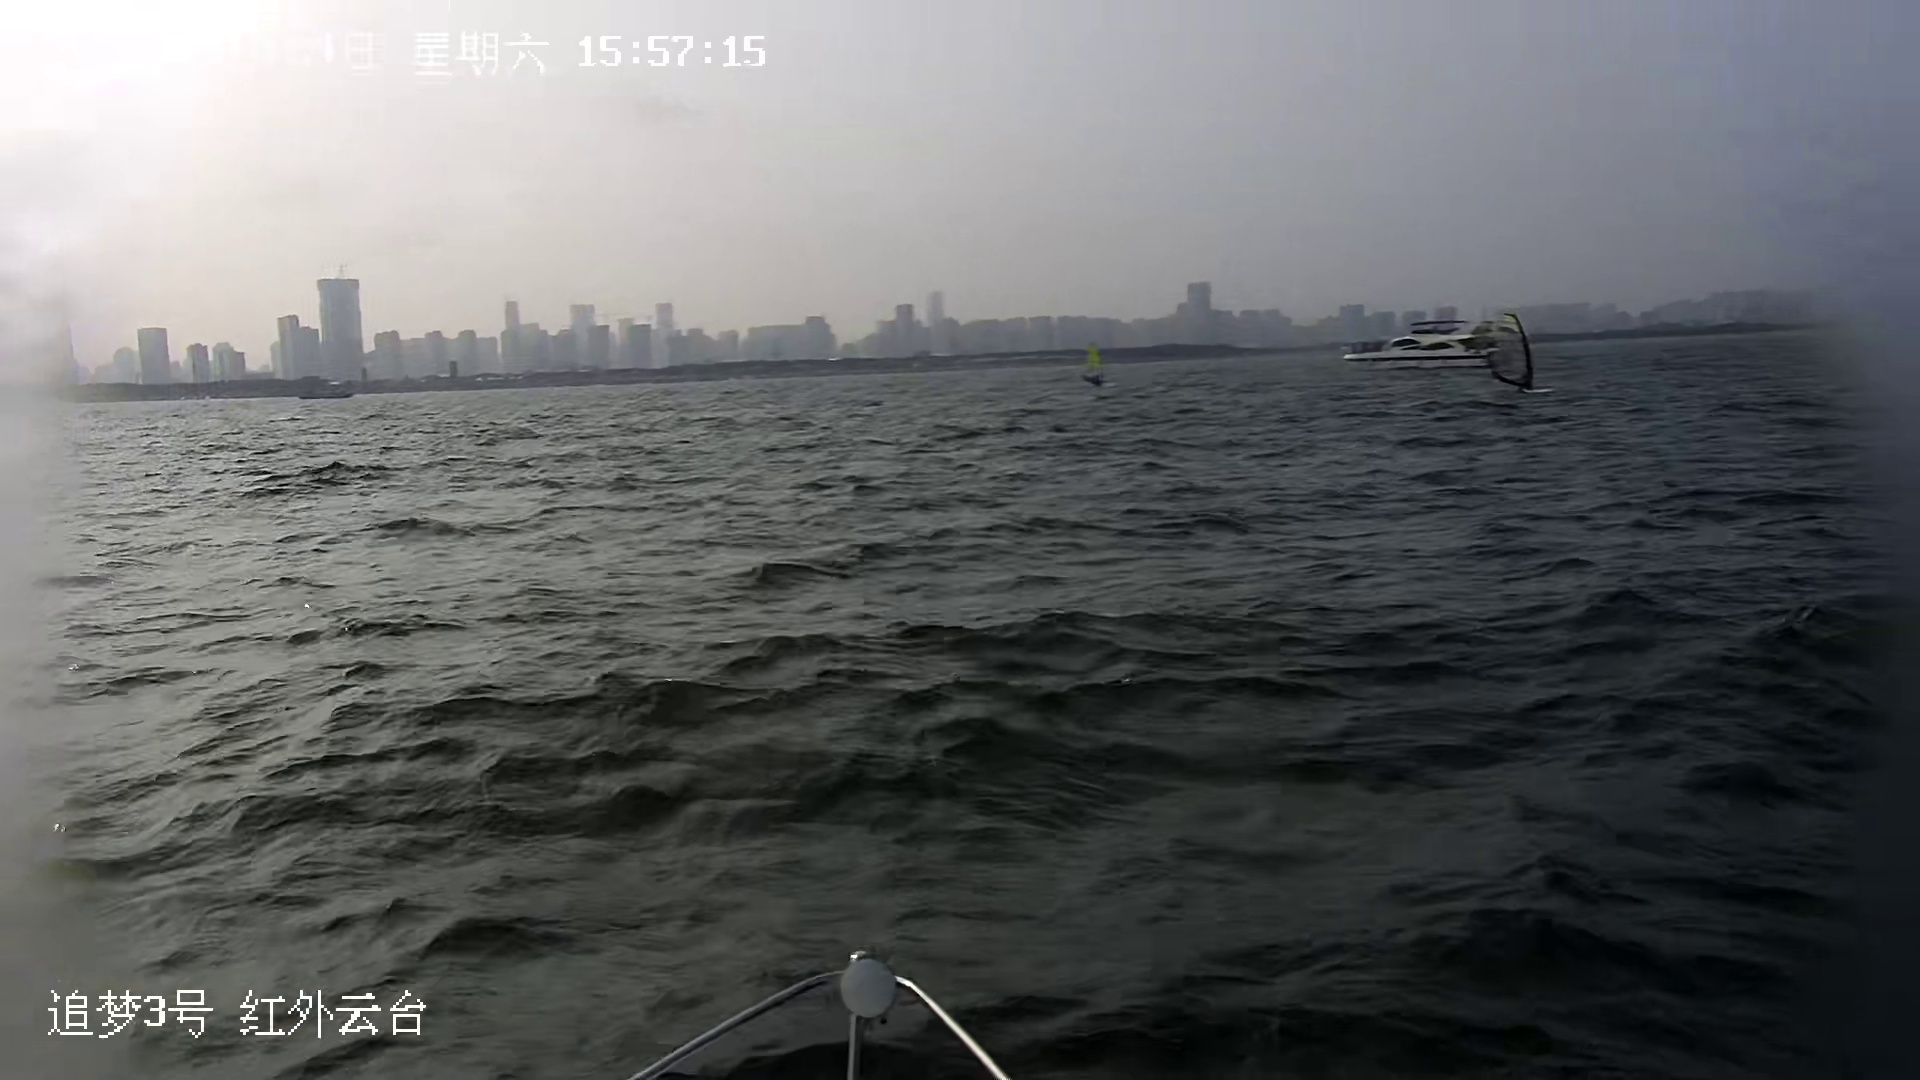barrier: (1341, 320, 1510, 365), (1494, 310, 1538, 393), (1083, 339, 1112, 392), (298, 378, 353, 400)
coast: (61, 269, 1862, 405)
